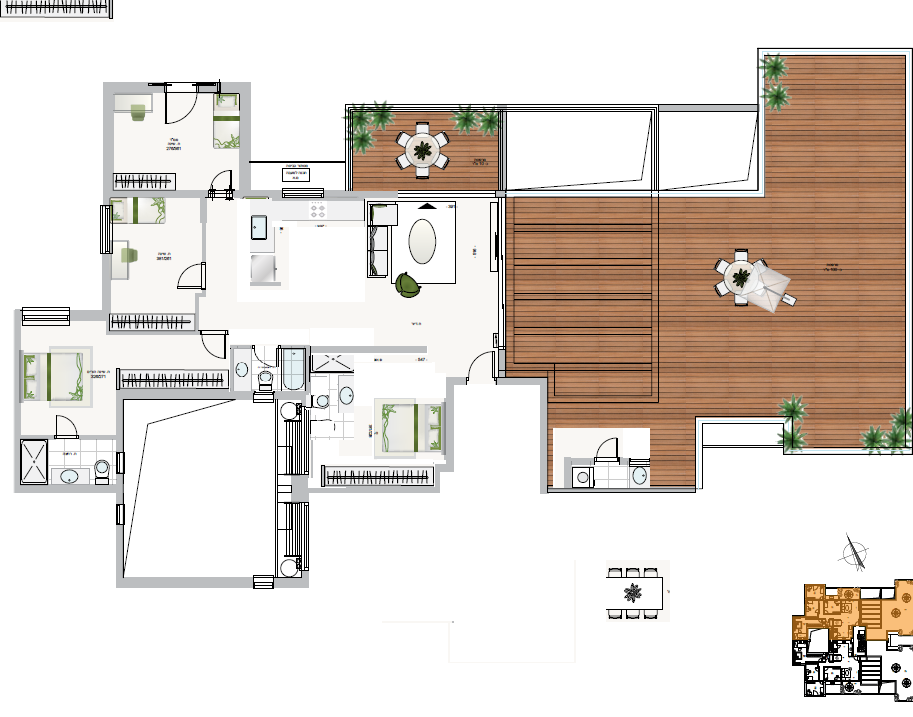room: (197, 187, 504, 387), (114, 387, 310, 588), (304, 343, 458, 494), (11, 303, 126, 491), (100, 82, 253, 201), (96, 189, 206, 336), (229, 343, 309, 405)
